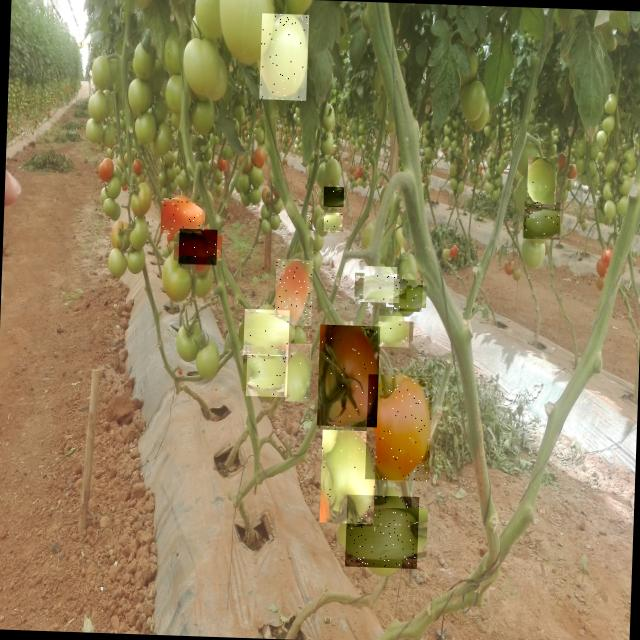Ripe Tomato: (364, 374, 432, 481), (316, 324, 379, 427), (274, 258, 313, 326), (178, 228, 217, 268), (162, 198, 202, 236)
Unripe Tomato: (344, 494, 418, 568), (319, 429, 376, 524), (258, 12, 308, 100), (242, 308, 290, 356), (245, 354, 288, 396), (284, 343, 311, 402), (526, 156, 557, 204), (523, 201, 560, 239), (359, 266, 396, 303), (389, 279, 422, 312), (377, 315, 409, 347), (323, 186, 344, 207), (323, 212, 342, 232)
